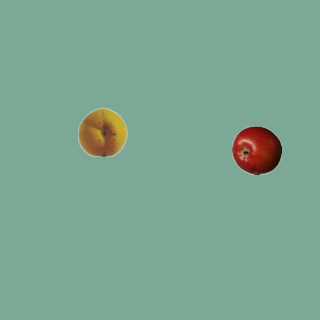Apple Braeburn: (231, 125, 281, 175)
Peach 2: (77, 106, 127, 156)
